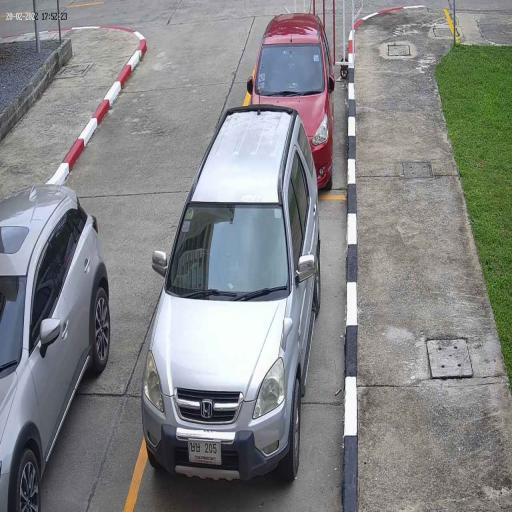car: (140, 104, 322, 486), (0, 183, 112, 512), (248, 11, 335, 192)
